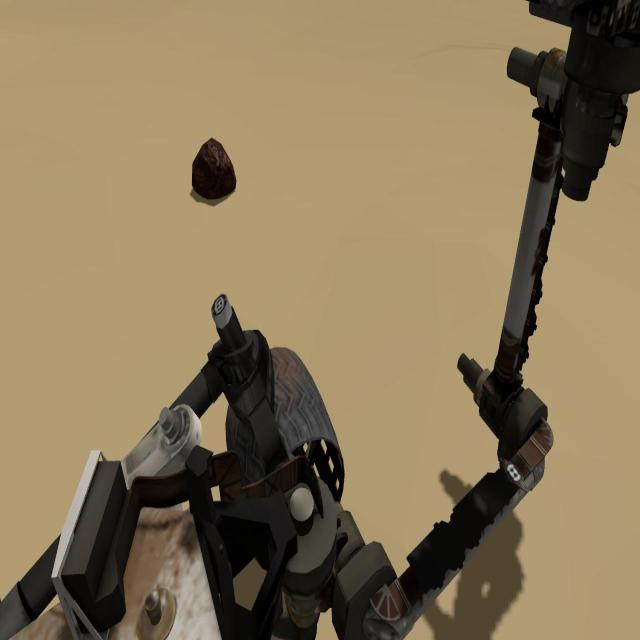rock: (191, 136, 237, 199)
